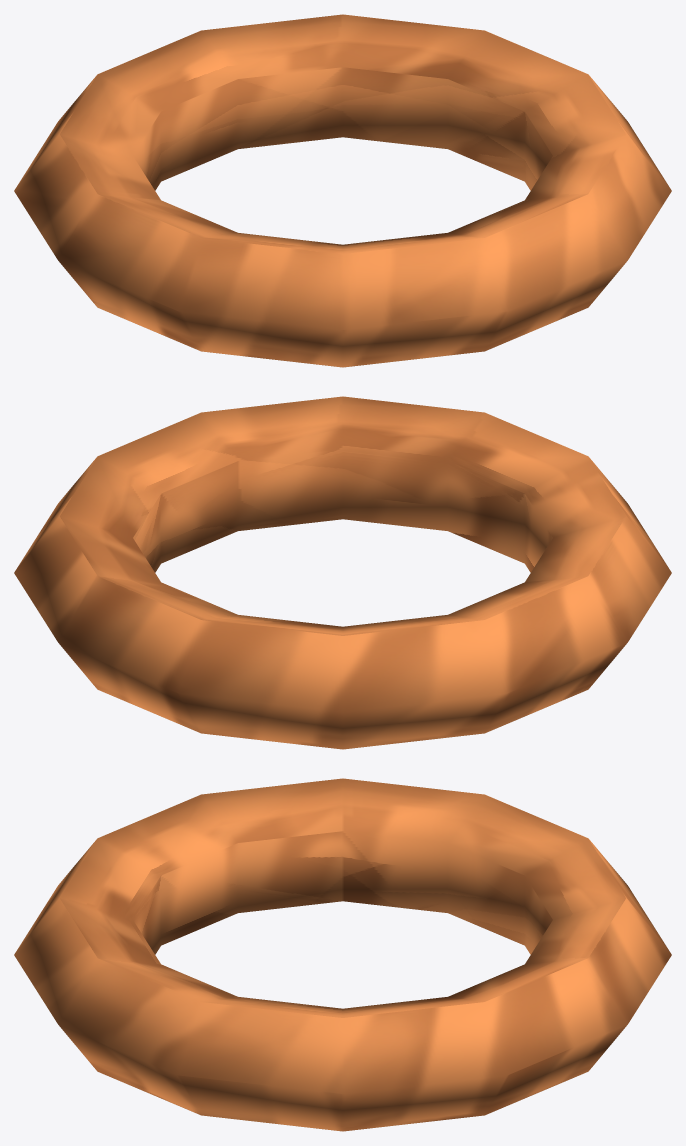
File: rope.fbx
The picture shows the model from 3 angles, top to bottom: view 1: azimuth 30°, elevation 25°; view 2: azimuth 150°, elevation 25°; view 3: azimuth 270°, elevation 25°; orthographic projection.
Parts seen in each view (by area): view 1: Torus.001; view 2: Torus.001; view 3: Torus.001.
Part boxes in pixels (x1,y1,x2,y2): Torus.001: (14,14,671,367); Torus.001: (14,396,671,749); Torus.001: (14,778,671,1131).
Bounding box in the file's own units: 144 × 27.39 × 144.
